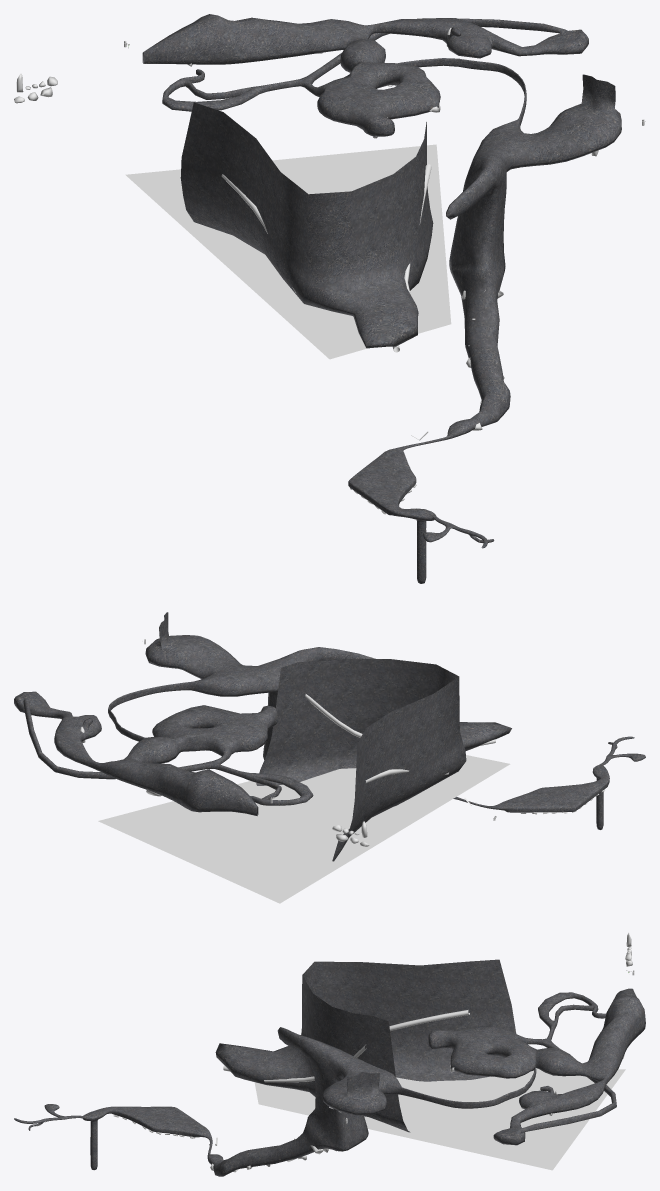
Rendered from Cave (1).fbx.
3 renders of one model, top to bottom at view 1: azimuth 30°, elevation 25°; view 2: azimuth 150°, elevation 25°; view 3: azimuth 270°, elevation 25°, orthographic. The views are drawn at different scales.
Parts seen in each view (by area): view 1: Cave_sclpt.002, Cube.004, Cube.001; view 2: Cave_sclpt.002, Cube.004, Cube.001, Cylinder; view 3: Cave_sclpt.002, Cube.004, Cube.001, Cylinder.
Part boxes in pixels (bbox=[...]): Cave_sclpt.002: bbox=[142, 14, 621, 583]; Cube.004: bbox=[180, 102, 433, 348]; Cube.001: bbox=[125, 144, 451, 359]; Cave_sclpt.002: bbox=[14, 612, 645, 829]; Cube.004: bbox=[256, 659, 511, 861]; Cube.001: bbox=[98, 755, 510, 903]; Cylinder: bbox=[305, 694, 495, 783]; Cave_sclpt.002: bbox=[14, 988, 645, 1176]; Cube.004: bbox=[215, 959, 516, 1132]; Cube.001: bbox=[254, 1068, 625, 1170]; Cylinder: bbox=[223, 1009, 469, 1082].
Size of the model in its own units: 14495 by 8198 by 20405.
